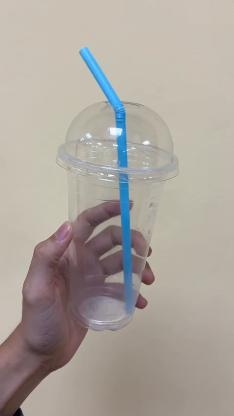Plastic Cup: (55, 97, 179, 333)
